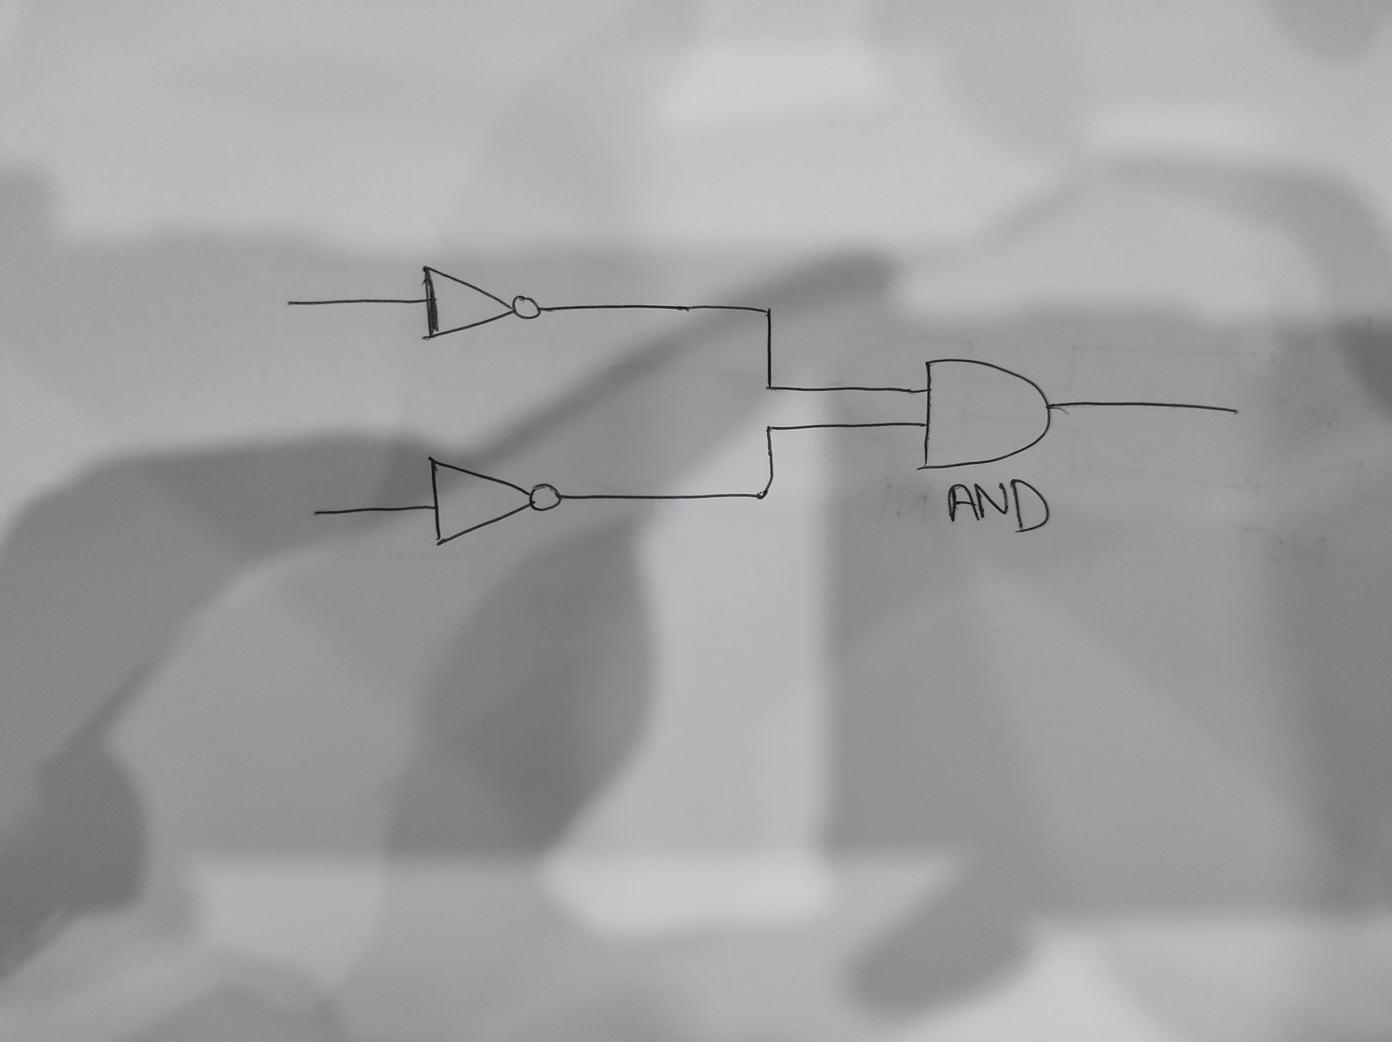and: (915, 354, 1062, 474)
junction: (751, 481, 774, 506), (758, 302, 777, 321), (759, 418, 777, 436), (759, 379, 776, 397)
not: (426, 451, 564, 549), (418, 262, 543, 343)
terminal: (305, 503, 332, 524), (1221, 402, 1244, 421), (282, 296, 308, 312)
text: (940, 474, 1052, 536)
